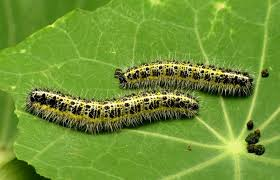Caterpillar: (25, 85, 201, 135), (112, 58, 256, 99)
